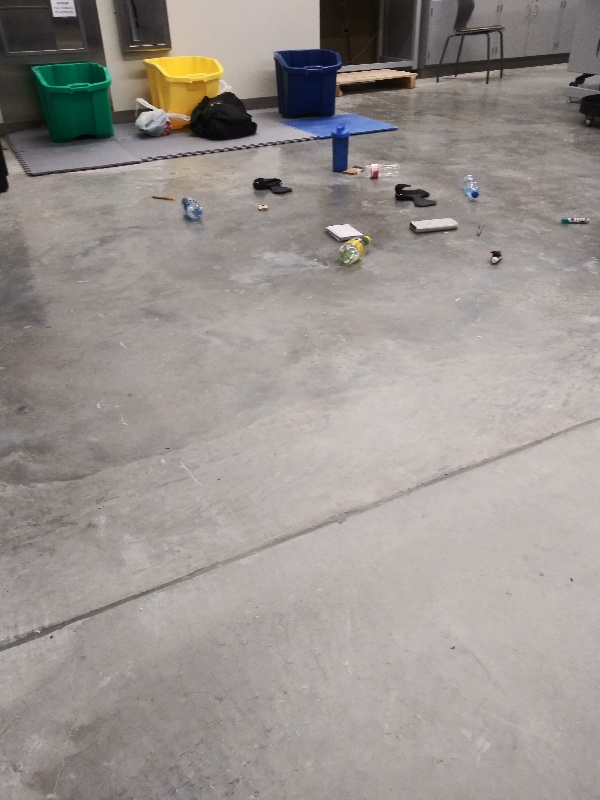bottle: (333, 232, 375, 270), (350, 161, 407, 183), (176, 192, 207, 225), (460, 169, 486, 205)
